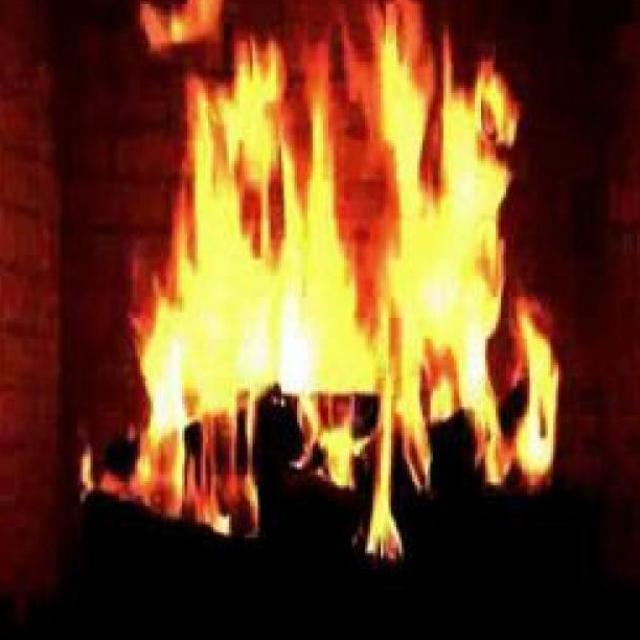smoke: (150, 24, 540, 463)
